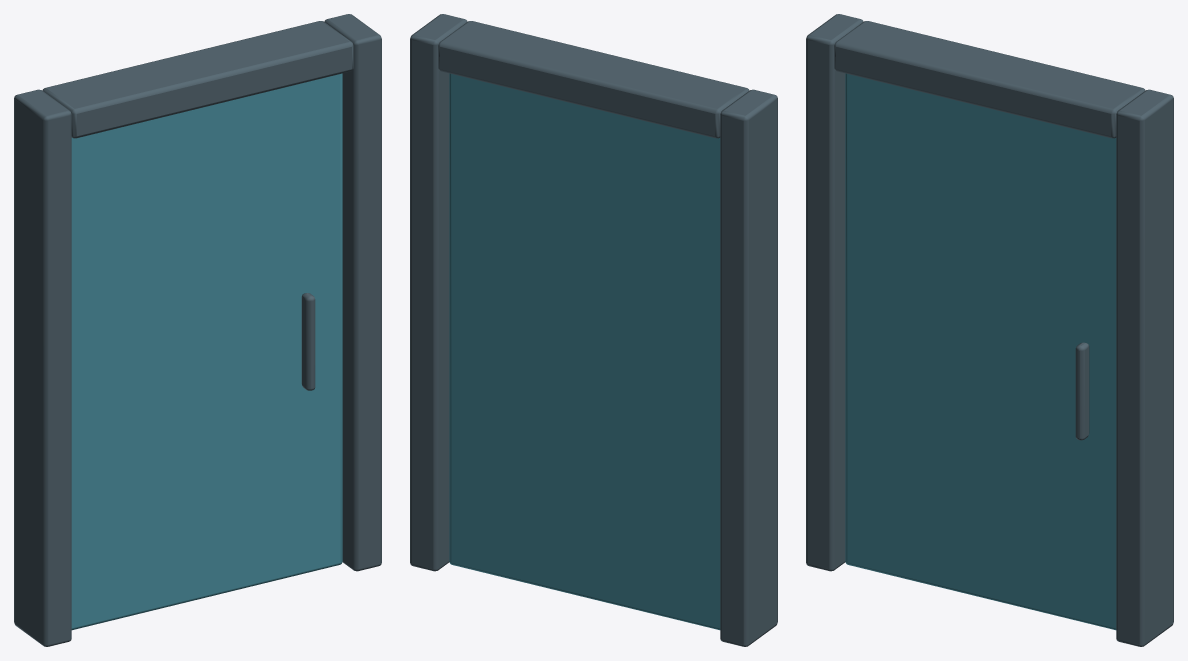
The model's file is MOD_Door_01.glb.
3 renders of one model, left to right at view 1: azimuth 30°, elevation 25°; view 2: azimuth 150°, elevation 25°; view 3: azimuth 330°, elevation 25°, orthographic.
Parts seen in each view (by area): view 1: MOD_Door_01; view 2: MOD_Door_01; view 3: MOD_Door_01.
Part boxes in pixels (left/top/right/bottom): MOD_Door_01: left=14, top=14, right=381, bottom=646; MOD_Door_01: left=410, top=14, right=777, bottom=646; MOD_Door_01: left=806, top=14, right=1173, bottom=646.
Size of the model in its own units: 1.5 by 2.25 by 0.25.
